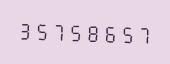eight: (85, 20, 101, 44)
five: (34, 18, 50, 42), (68, 19, 84, 43), (119, 21, 135, 45)
seven: (51, 18, 67, 43), (136, 21, 152, 46)
six: (102, 20, 118, 45)
three: (17, 17, 33, 42)
